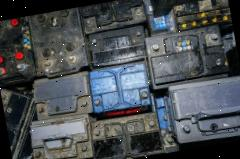electronic: (29, 68, 97, 122)
